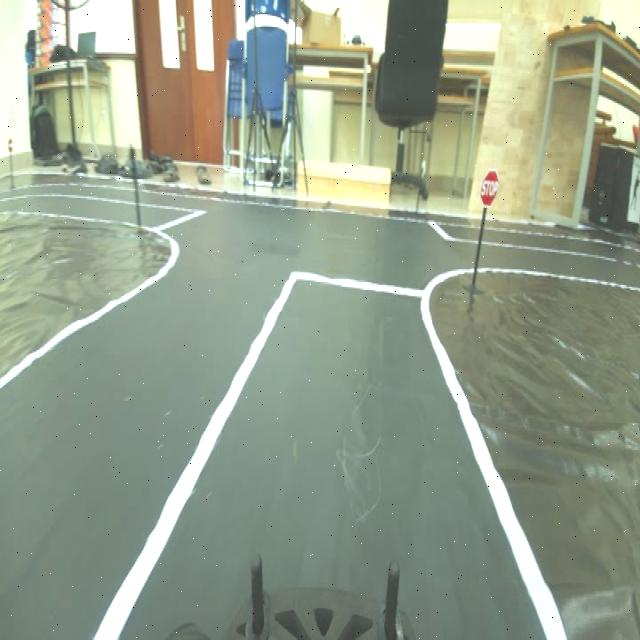stop: (477, 168, 499, 209)
